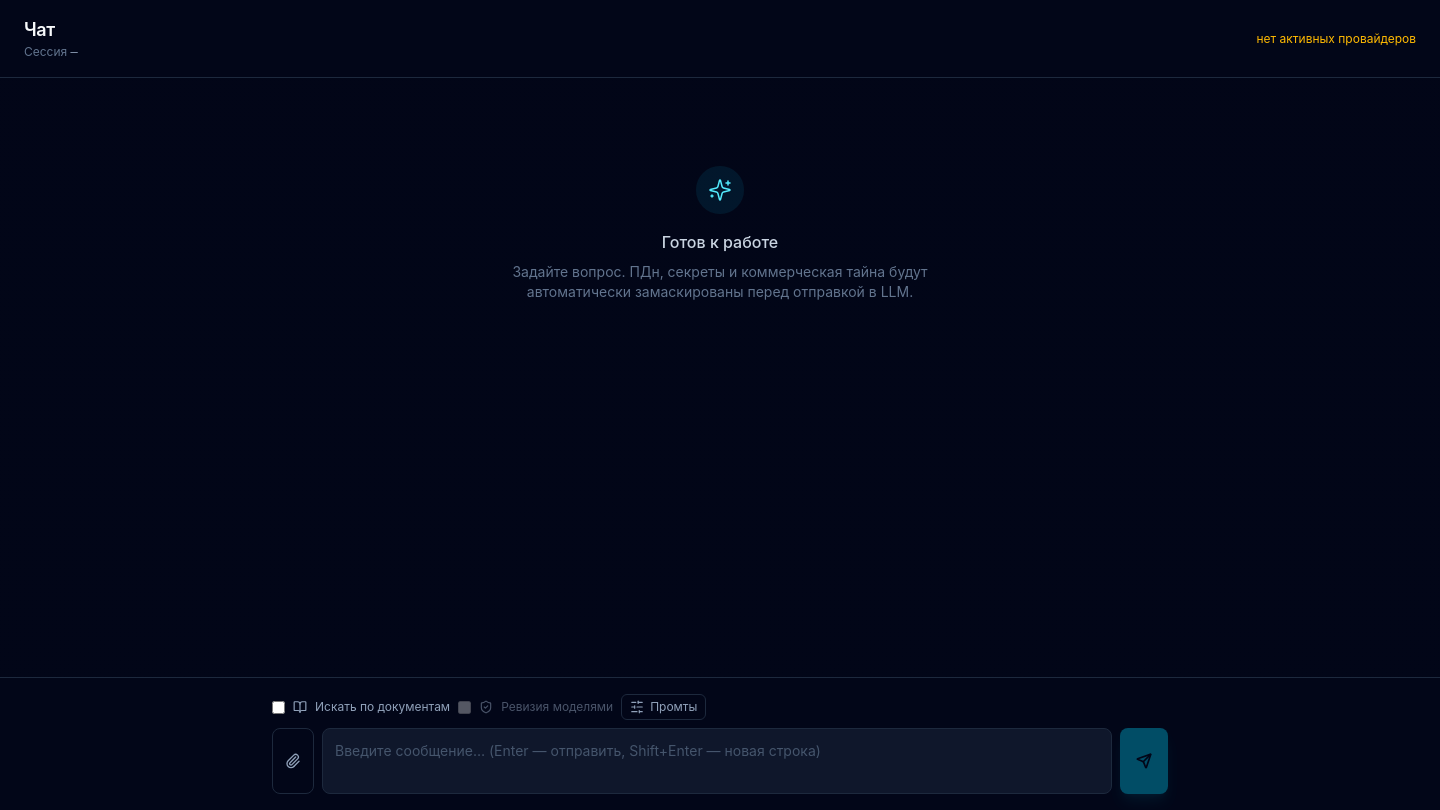
Scenario: ChatPage — RAG toggle + источники (Итерация 11 §Р4 Ф5) › toggle сохраняется в localStorage и передаёт rag.enabled=true в /api/chat
The image size is (1440, 810).
Click the switch with test id "rag-toggle".
click(278, 707)  # box [272,700,285,714]
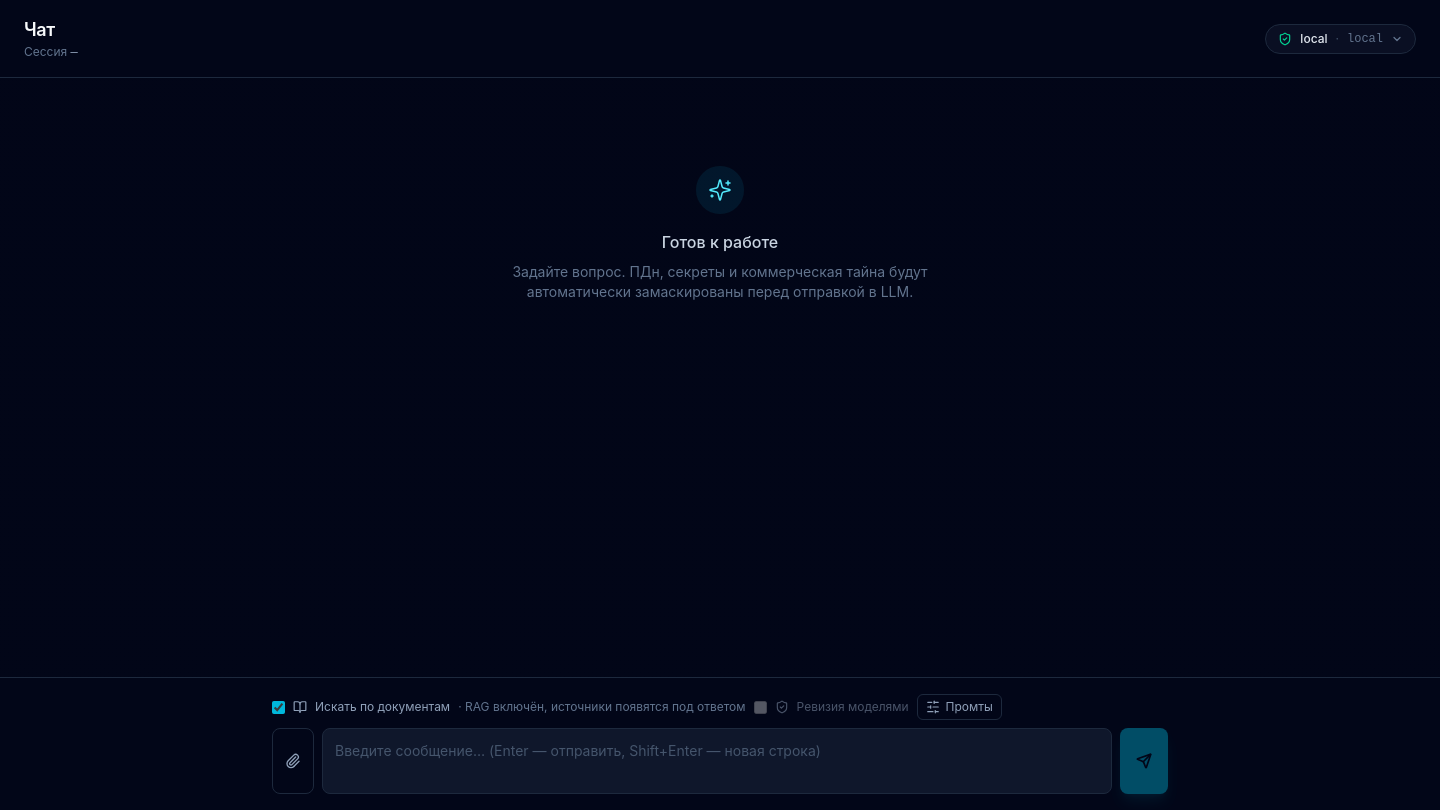
Replace the text in the text box labelled "сообщение" with "что в договоре" at (717, 761), box [322,728,1112,794]
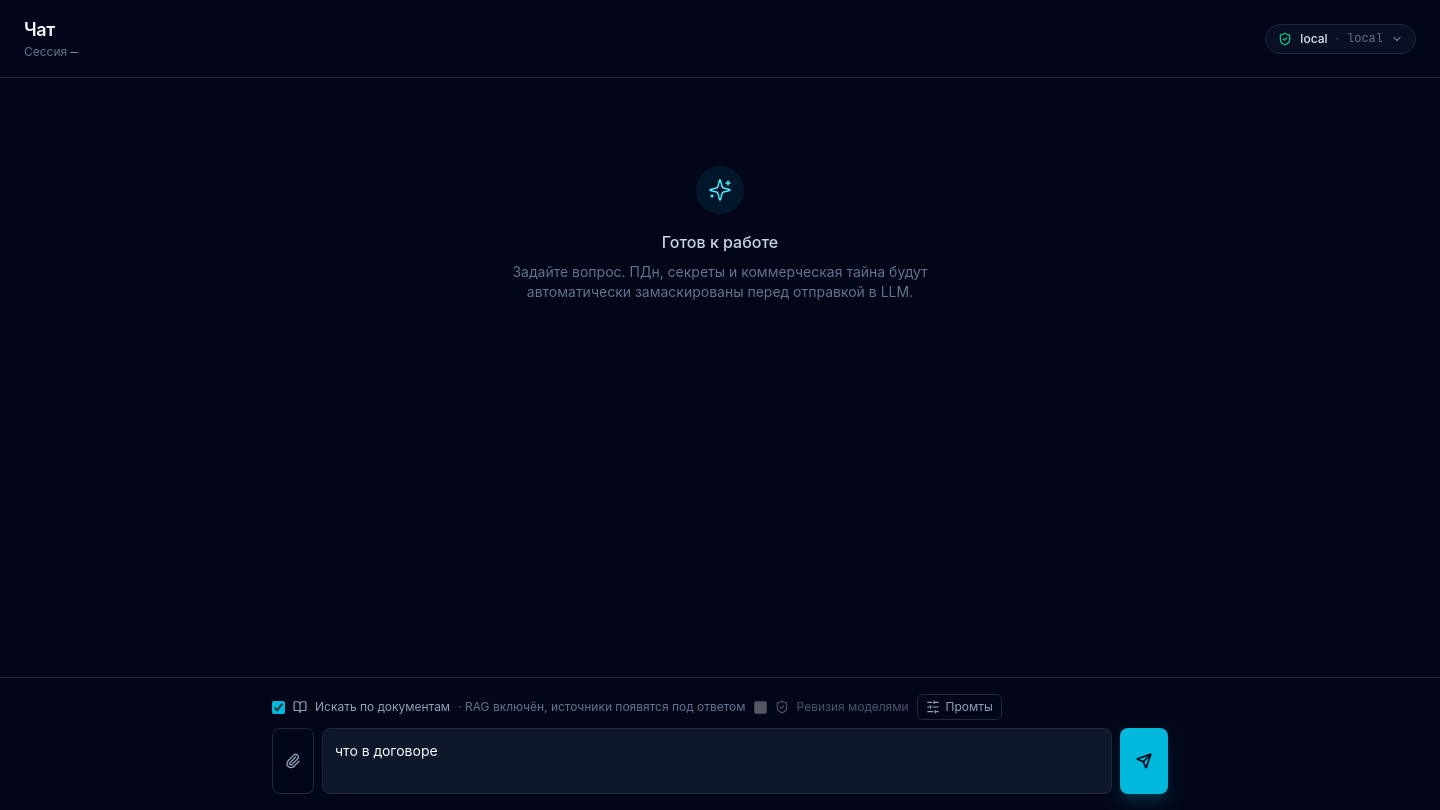
Press Enter in the text box named "сообщение", box [322,728,1112,794]
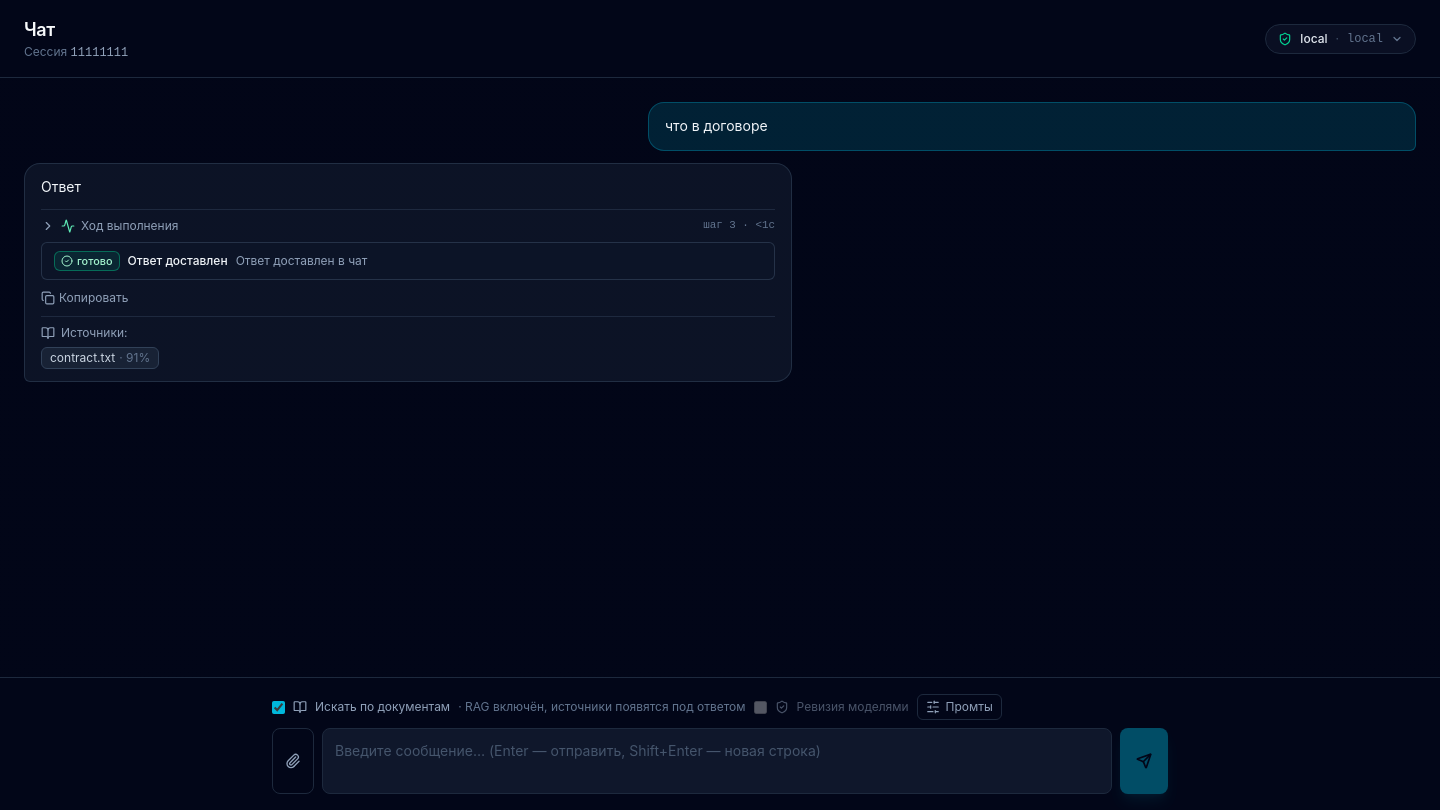
Result: the text "Ответ" is shown at [41,178,81,195]
Result: the element with test id "rag-sources" shows "contract.txt" at [50,350,115,365]
Result: the element with test id "rag-sources" shows "91%" at [41,316,775,369]
